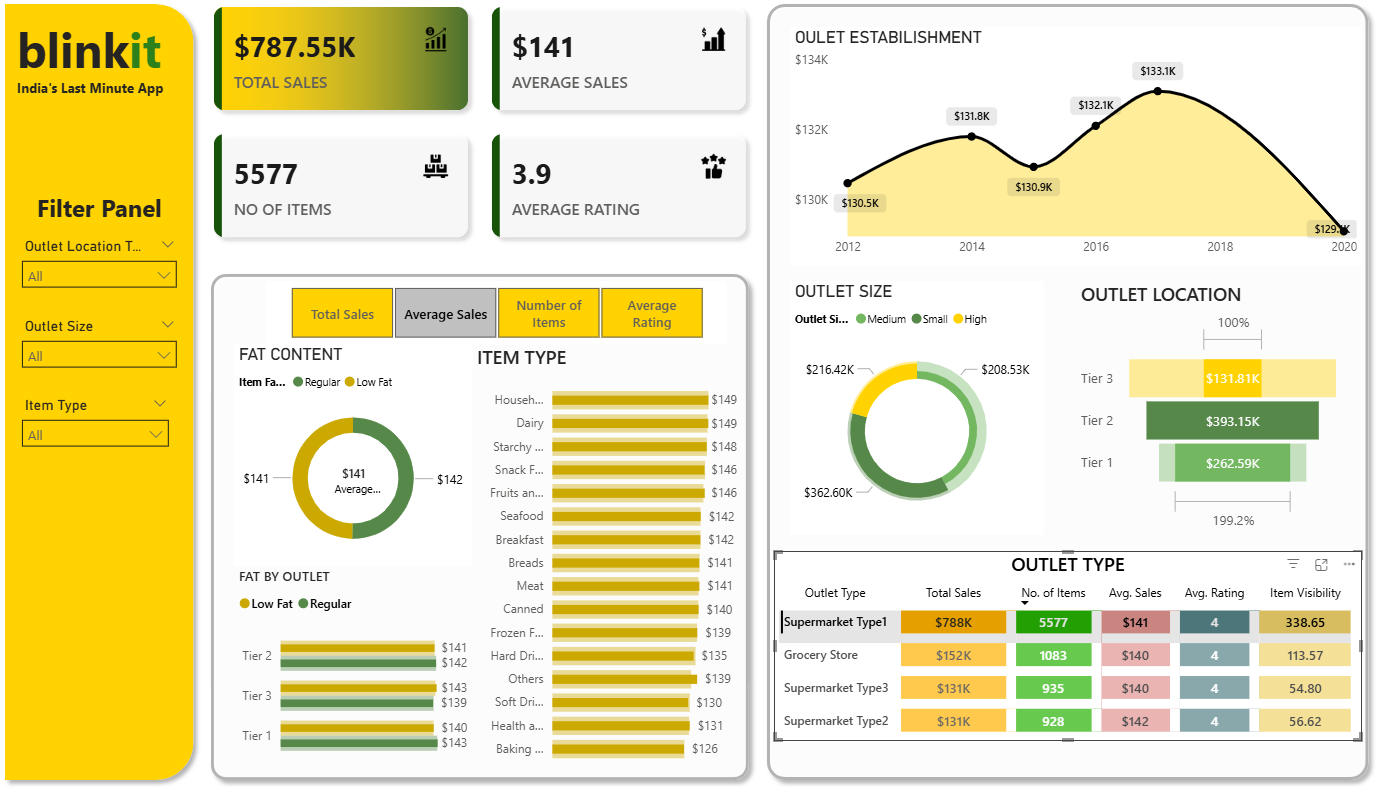

What the dashboard file says about the page in this screenshot:
{"tool":"powerbi","page":{"name":"Page 1","canvas":[1400,800],"ordinal":0},"visuals":[{"type":"shape","box":[0,0,208,800],"z":0},{"type":"textbox","box":[16,16,192,96],"z":1000},{"type":"textbox","box":[16,80,184,32],"z":2000},{"type":"cardVisual","fields":{"Data":["BlinkIT Grocery Data.Total Sales","BlinkIT Grocery Data.Average Sales","BlinkIT Grocery Data.Number of Items","BlinkIT Grocery Data.Average Rating"]},"box":[208,0,560,256],"z":3000},{"type":"shape","box":[208,272,560,528],"z":4000},{"type":"donutChart","title":"FAT CONTENT","fields":{"Y":["BlinkIT Grocery Data.Total Sales"],"Category":["BlinkIT Grocery Data.Item Fat Content"]},"box":[240,352,240,224],"z":5000},{"type":"slicer","fields":{"Values":["Metrics.Metrics"]},"box":[272,288,464,64],"z":6000},{"type":"cardVisual","fields":{"Data":["BlinkIT Grocery Data.Total Sales"]},"box":[312,456,96,64],"z":7000},{"type":"clusteredBarChart","title":"FAT BY OUTLET","fields":{"Y":["BlinkIT Grocery Data.Total Sales"],"Category":["BlinkIT Grocery Data.Outlet Location Type"],"Series":["BlinkIT Grocery Data.Item Fat Content"]},"box":[240,576,240,208],"z":8000},{"type":"barChart","title":"ITEM TYPE","fields":{"Y":["BlinkIT Grocery Data.Total Sales"],"Category":["BlinkIT Grocery Data.Item Type"]},"box":[480,352,272,432],"z":9000},{"type":"shape","box":[768,0,624,800],"z":10000},{"type":"lineChart","title":"OULET ESTABILISHMENT","fields":{"Category":["BlinkIT Grocery Data.Outlet Establishment Year"],"Y":["BlinkIT Grocery Data.Total Sales"]},"box":[800,32,576,240],"z":11000},{"type":"donutChart","title":"OUTLET SIZE","fields":{"Category":["BlinkIT Grocery Data.Outlet Size"],"Y":["BlinkIT Grocery Data.Total Sales"]},"box":[800,288,256,256],"z":12000},{"type":"funnel","title":"OUTLET LOCATION","fields":{"Y":["Sum(BlinkIT Grocery Data.Sales)"],"Category":["BlinkIT Grocery Data.Outlet Location Type"]},"box":[1088,288,272,256],"z":13000},{"type":"pivotTable","title":"OUTLET TYPE","fields":{"Rows":["BlinkIT Grocery Data.Outlet Type"],"Values":["BlinkIT Grocery Data.Total Sales","BlinkIT Grocery Data.Number of Items","BlinkIT Grocery Data.Average Sales","BlinkIT Grocery Data.Average Rating","Sum(BlinkIT Grocery Data.Item Visibility)"]},"box":[784,560,592,192],"z":14000},{"type":"slicer","fields":{"Values":["BlinkIT Grocery Data.Outlet Location Type"]},"box":[16,240,176,80],"z":14001},{"type":"slicer","fields":{"Values":["BlinkIT Grocery Data.Outlet Size"]},"box":[16,320,176,80],"z":14002},{"type":"slicer","fields":{"Values":["BlinkIT Grocery Data.Item Type"]},"box":[16,400,168,80],"z":14003},{"type":"textbox","box":[16,192,176,48],"z":14004}]}

Visuals, with their boxes in screenshot pixels (x1, y1, x2, y2), scaled from the page's 1400x800 canvas onto the 1380x787 screenshot:
shape: 0:0:205:786
textbox: 16:16:205:110
textbox: 16:79:197:110
cardVisual - BlinkIT Grocery Data.Total Sales x BlinkIT Grocery Data.Average Sales: 205:0:757:252
shape: 205:268:757:786
"FAT CONTENT" donutChart: 237:346:473:567
slicer - Metrics.Metrics: 268:283:725:346
cardVisual - BlinkIT Grocery Data.Total Sales: 308:449:402:512
"FAT BY OUTLET" clusteredBarChart: 237:567:473:771
"ITEM TYPE" barChart: 473:346:741:771
shape: 757:0:1372:786
"OULET ESTABILISHMENT" lineChart: 789:31:1356:268
"OUTLET SIZE" donutChart: 789:283:1041:535
"OUTLET LOCATION" funnel: 1072:283:1341:535
"OUTLET TYPE" pivotTable: 773:551:1356:740
slicer - BlinkIT Grocery Data.Outlet Location Type: 16:236:189:315
slicer - BlinkIT Grocery Data.Outlet Size: 16:315:189:394
slicer - BlinkIT Grocery Data.Item Type: 16:394:181:472
textbox: 16:189:189:236
